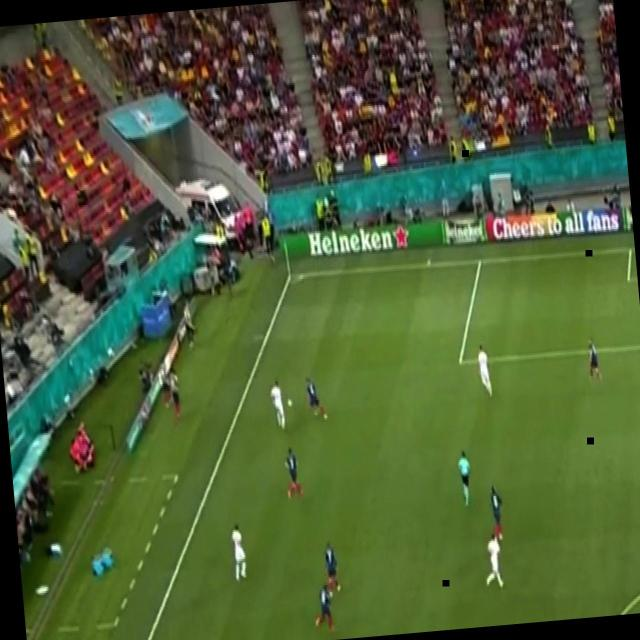ball: (287, 398, 293, 408)
player-white: (481, 531, 505, 590), (311, 584, 335, 638), (229, 520, 249, 583), (282, 446, 304, 502), (322, 544, 342, 604), (304, 375, 328, 424), (486, 484, 506, 542), (268, 378, 288, 434), (456, 449, 474, 508), (475, 344, 494, 399), (586, 338, 603, 384)
